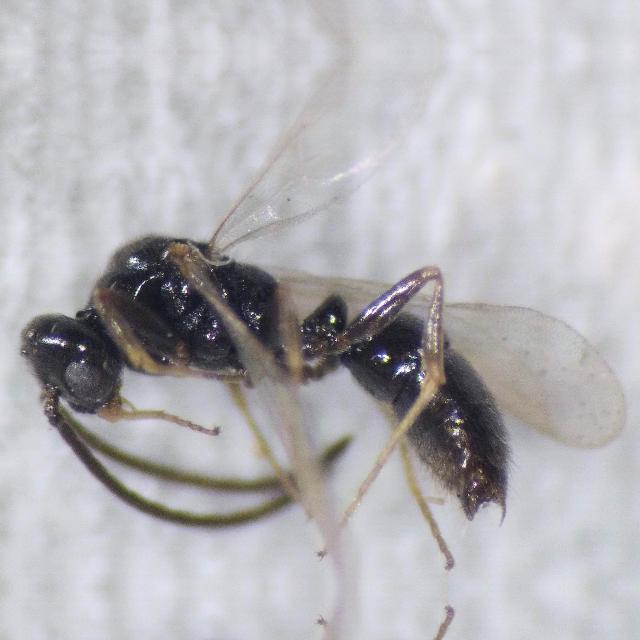Ponera: (0, 144, 638, 574)
